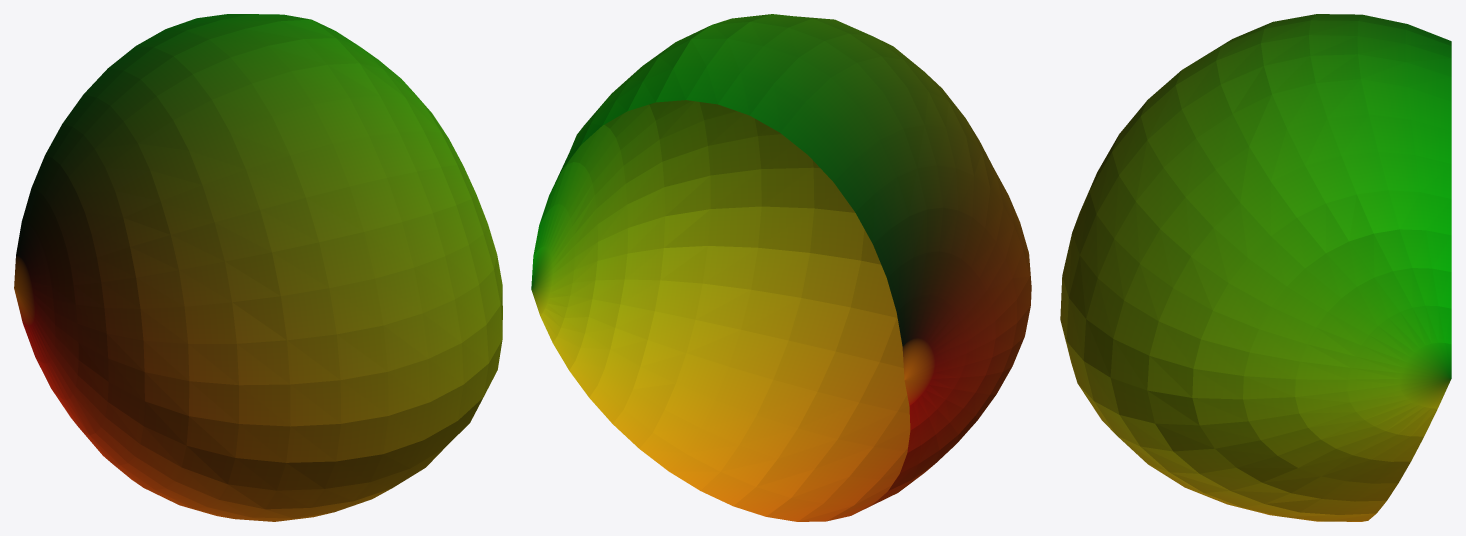
The model's file is lsmesh-cpc copy.obj.
The picture shows the model from 3 angles, left to right: view 1: azimuth 30°, elevation 25°; view 2: azimuth 150°, elevation 25°; view 3: azimuth 270°, elevation 25°; orthographic projection. The views are drawn at different scales.
Bounding box in the file's own units: 16.81 × 19.05 × 14.39.
